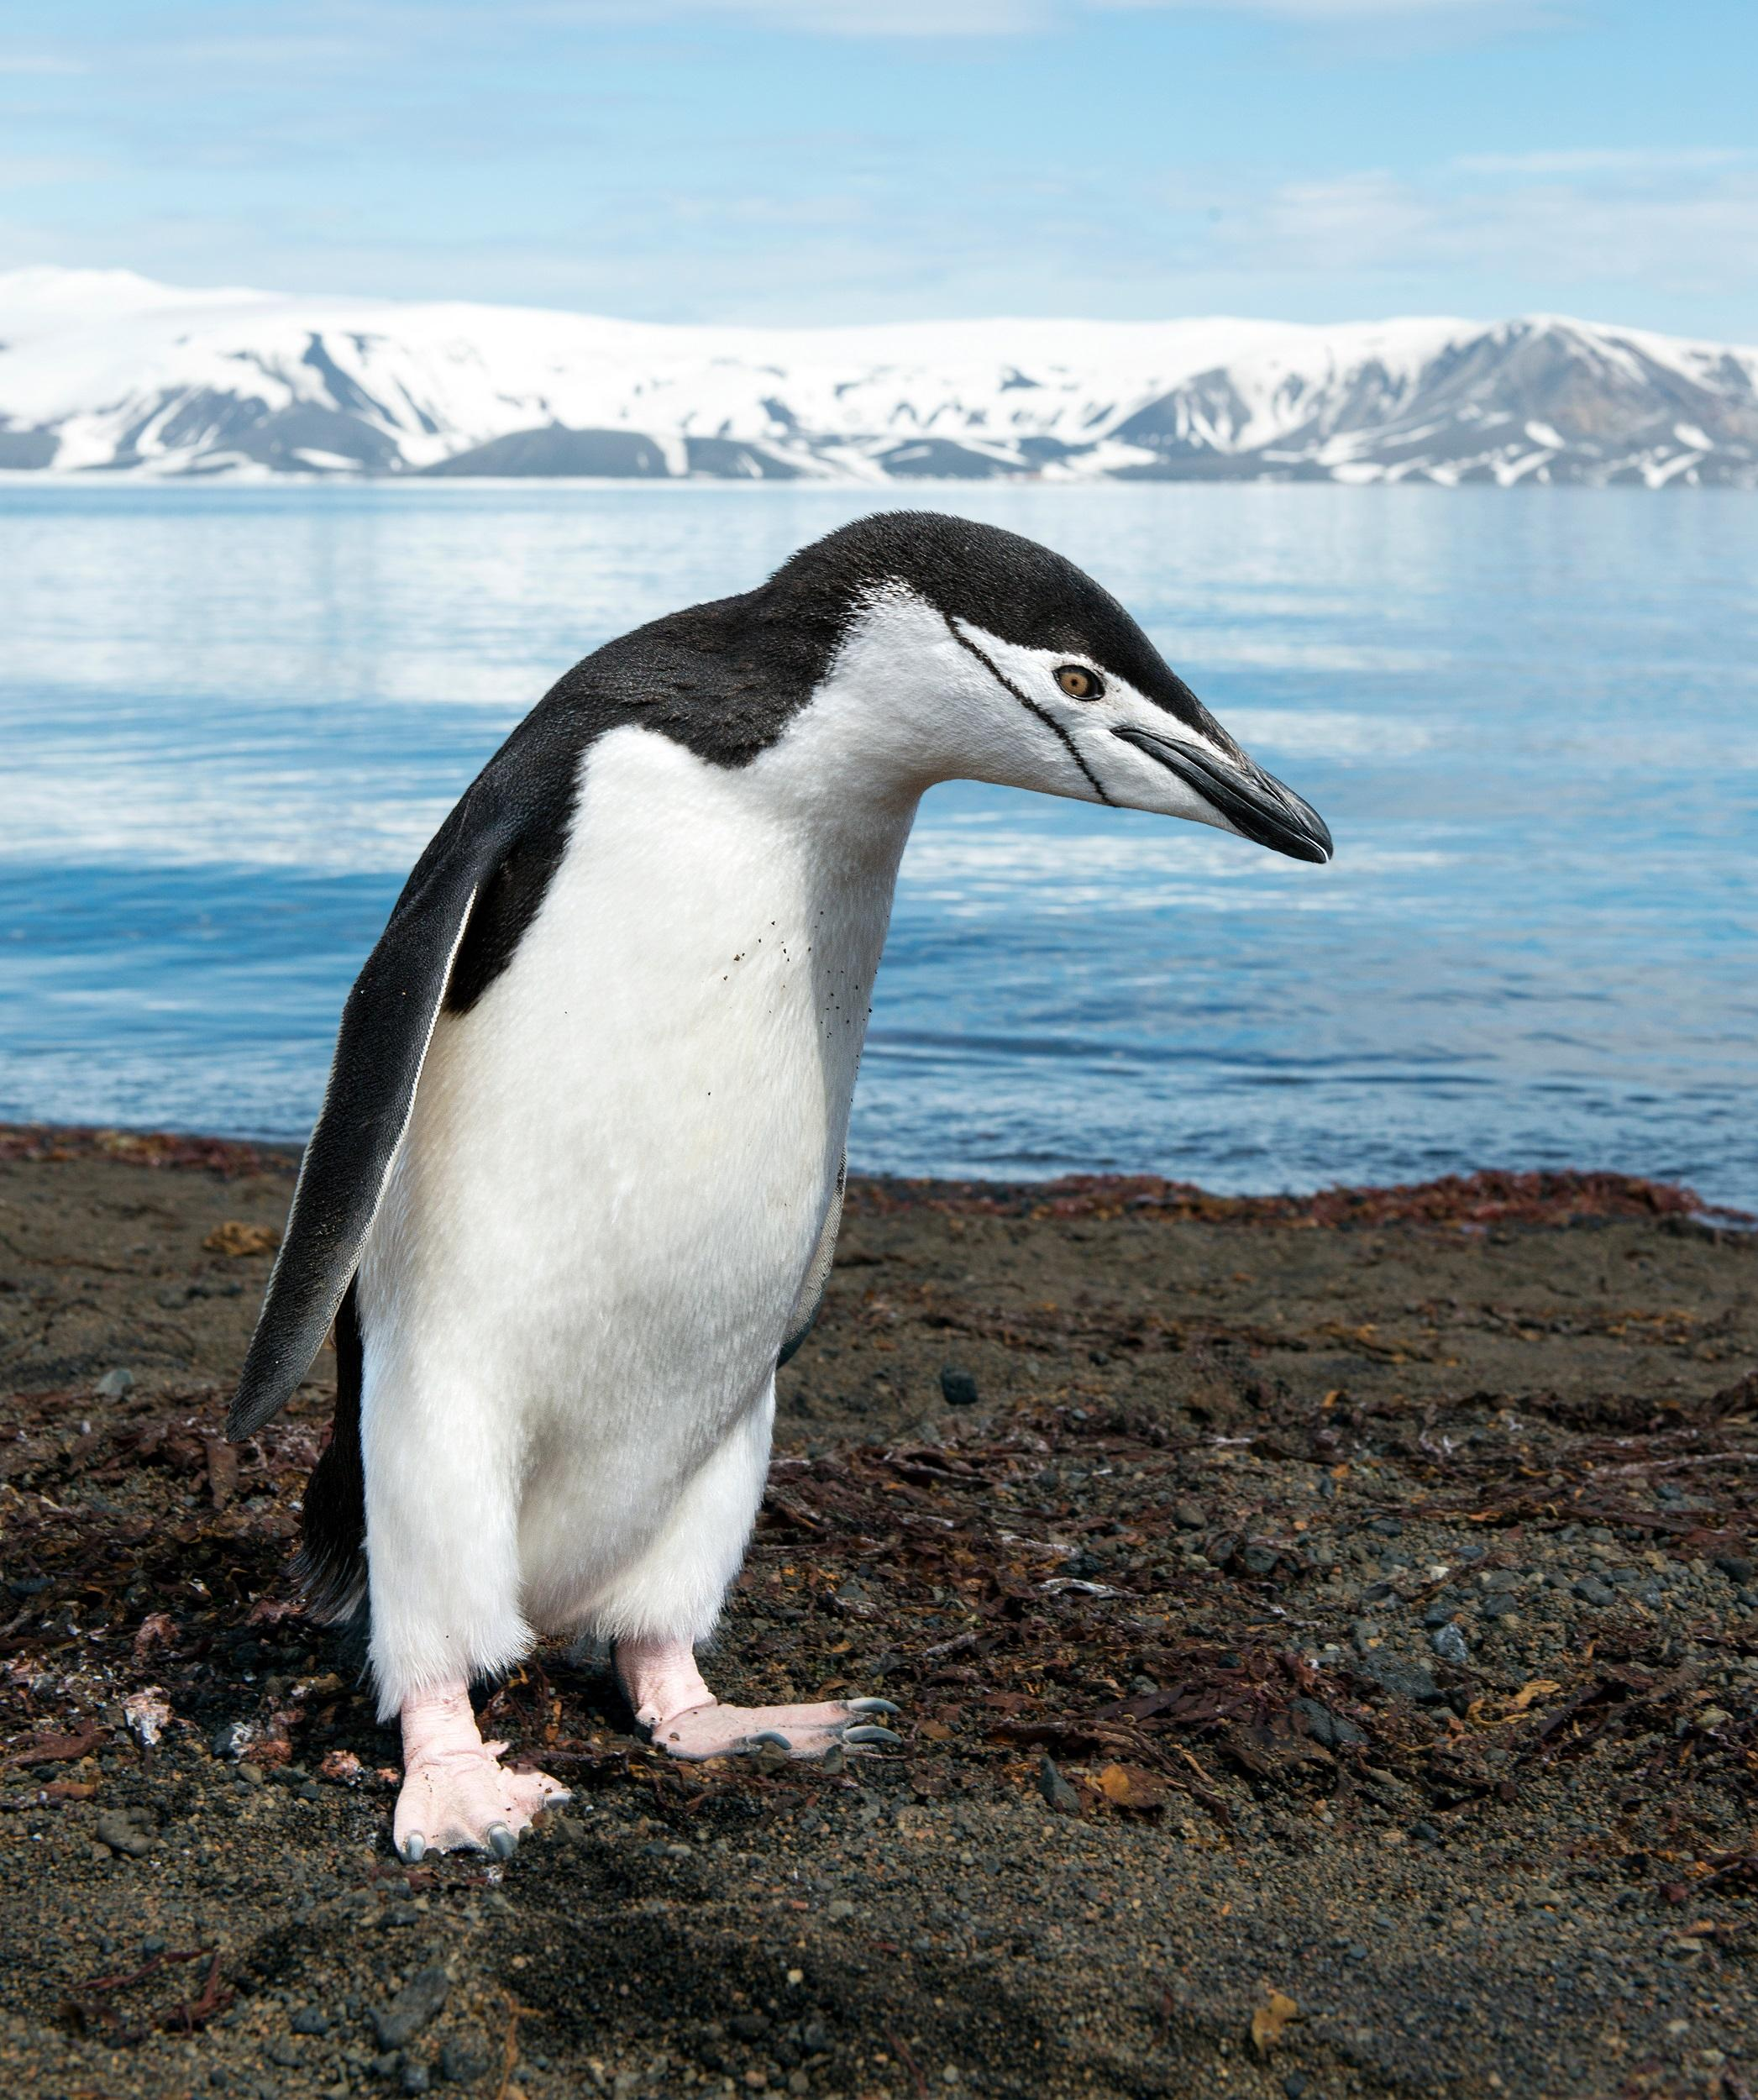chinstrap: (153, 488, 1385, 1858)
